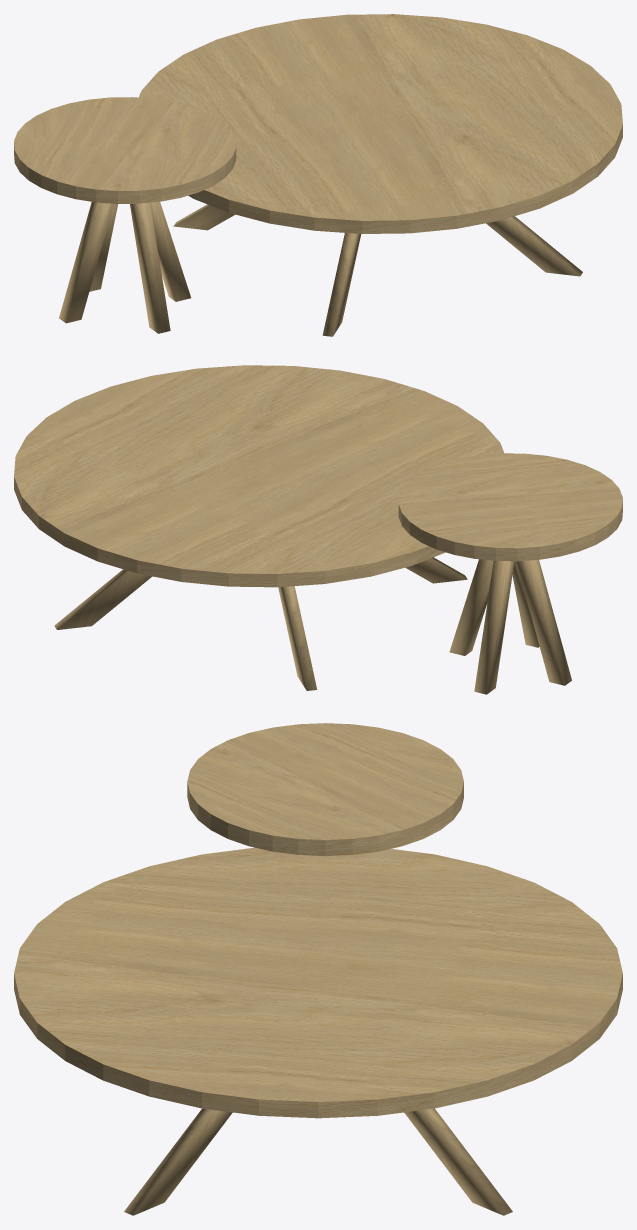
File: coffee_table.glb
3 renders of one model, top to bottom at view 1: azimuth 30°, elevation 25°; view 2: azimuth 150°, elevation 25°; view 3: azimuth 270°, elevation 25°, orthographic. The views are drawn at different scales.
Visible parts, largest first — view 1: Circle.342, Circle.344, Circle.345, Circle.343; view 2: Circle.342, Circle.344, Circle.345, Circle.343; view 3: Circle.342, Circle.344, Circle.343.
Part boxes in pixels (<box>): Circle.342: <box>138,14,622,233</box>; Circle.344: <box>14,97,236,203</box>; Circle.345: <box>59,201,190,333</box>; Circle.343: <box>173,204,582,336</box>; Circle.342: <box>14,365,503,587</box>; Circle.344: <box>398,453,622,561</box>; Circle.345: <box>449,559,571,694</box>; Circle.343: <box>54,557,467,690</box>; Circle.342: <box>14,847,622,1118</box>; Circle.344: <box>187,723,463,855</box>; Circle.343: <box>124,1108,512,1215</box>.
Size of the model in its own units: 1.4 by 0.3914 by 1.06.
1 material, 1 textured.
